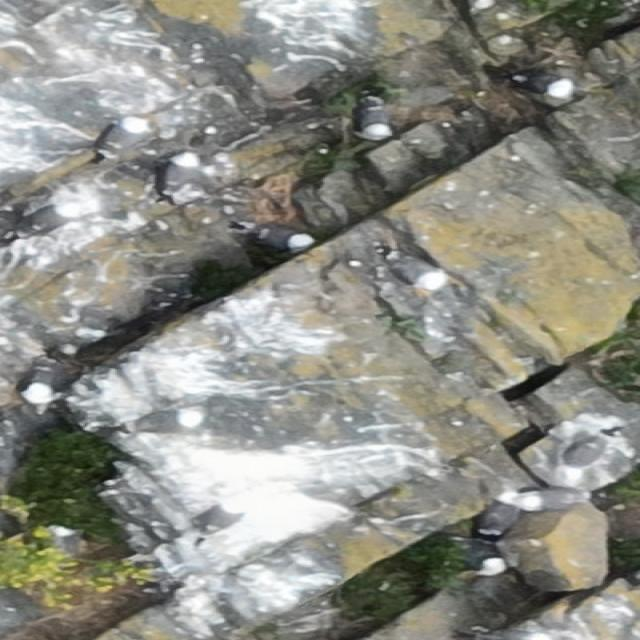umineko: (563, 431, 619, 488), (92, 112, 150, 167), (192, 495, 246, 548), (18, 357, 68, 412), (385, 246, 445, 290), (122, 408, 210, 437), (519, 488, 621, 512), (354, 86, 400, 139), (150, 152, 198, 200), (509, 67, 578, 99), (478, 488, 524, 536), (455, 537, 509, 574), (254, 227, 300, 247)
